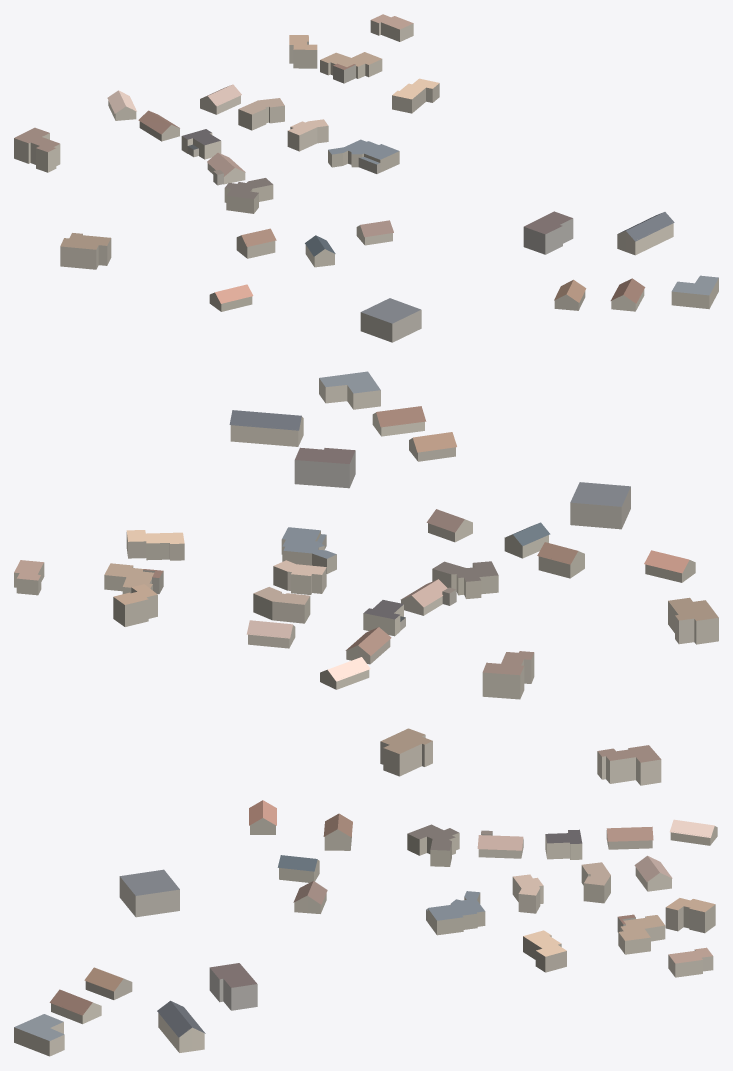
3 renders of one model, top to bottom at view 1: azimuth 30°, elevation 25°; view 2: azimuth 150°, elevation 25°; view 3: azimuth 270°, elevation 25°, orthographic. The views are drawn at different scales.
Visible parts, largest first — view 1: tuile; view 2: tuile; view 3: tuile.
Boxes of the visible parts, x1=… form: tuile: x1=14, y1=14, x2=718, y2=342; tuile: x1=14, y1=371, x2=718, y2=699; tuile: x1=14, y1=728, x2=717, y2=1056.
Size of the model in its own units: 239 by 32.73 by 254.
